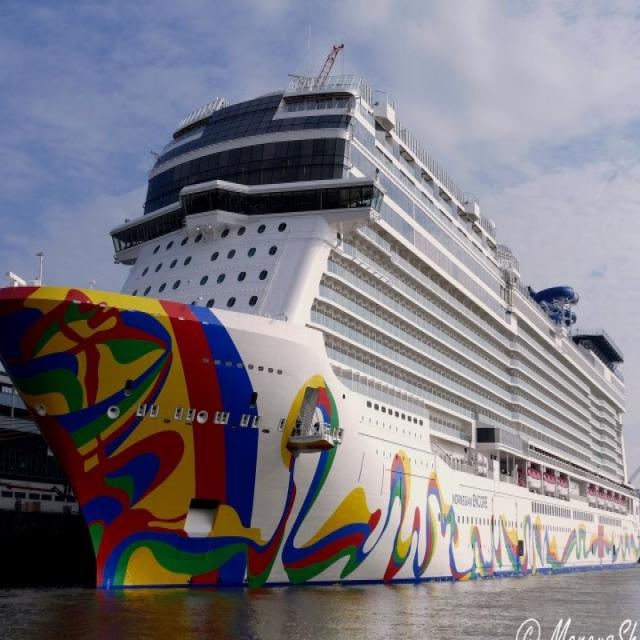cruises: (1, 62, 640, 592)
